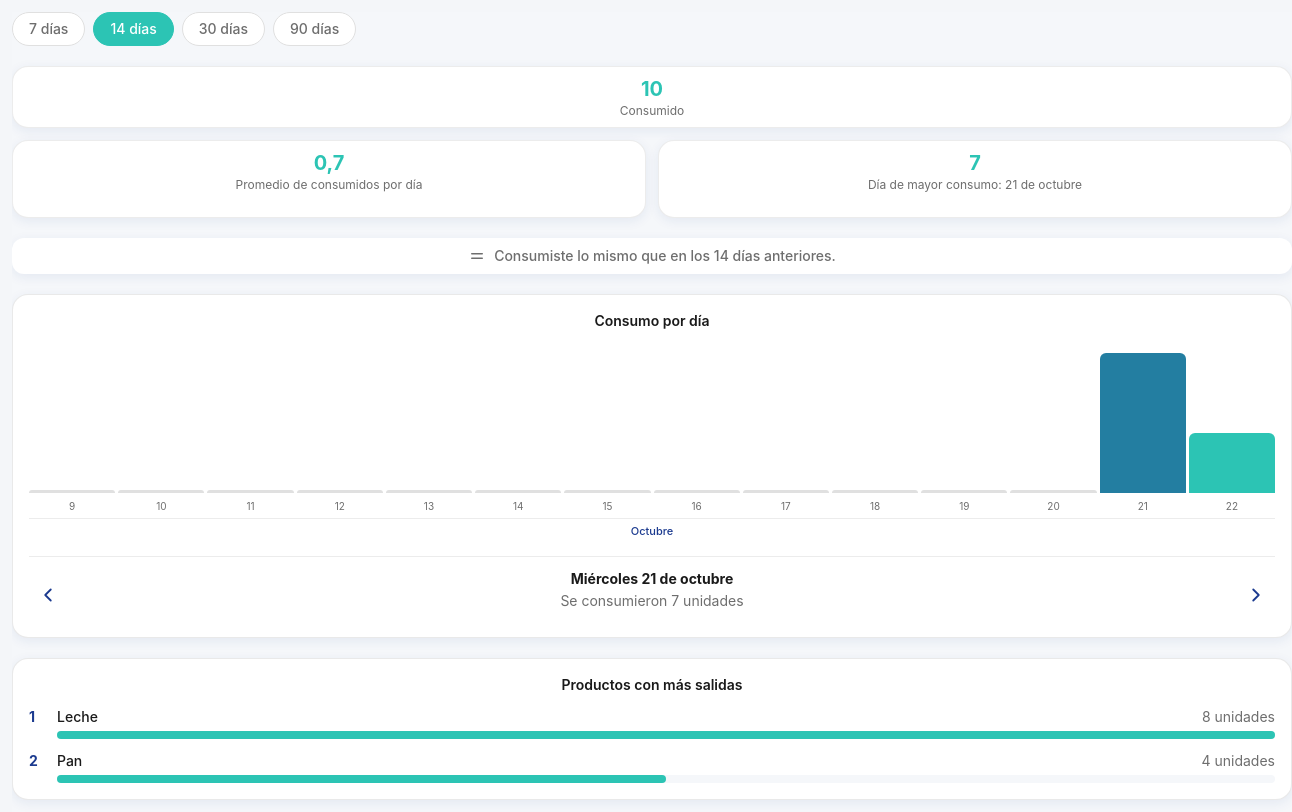
Test: TrendsPanel · períodos › con 90 días pide 90 y 180 y rotula una barra por semana
What coordinates should you click on to do the following:
click the button with test id "trends-period-90"
I would click on:
 (315, 29)
Its box is [273,12,356,46].
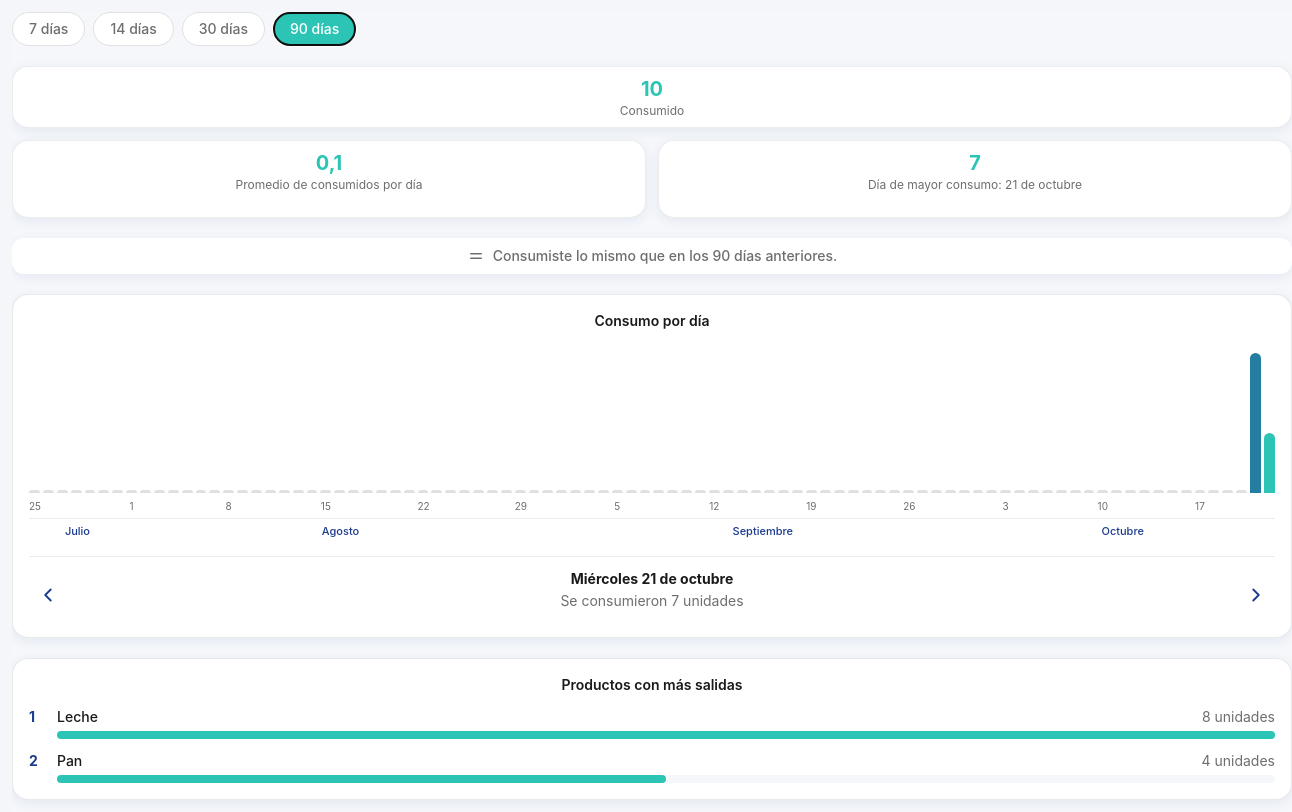
Expected: the button with test id "trends-bar-89" is shown, [1264,343,1275,493]
Expected: the text "25" is shown, [29,499,40,514]
Expected: the text with test id "trends-day-label-1" is gone
